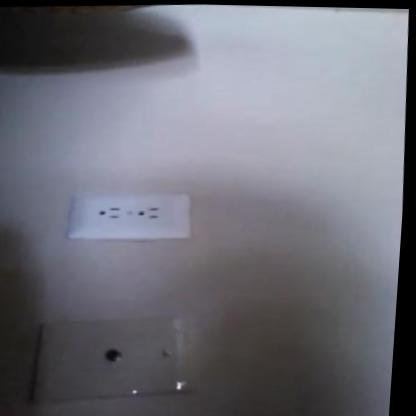OUTLET: (65, 192, 193, 244)
